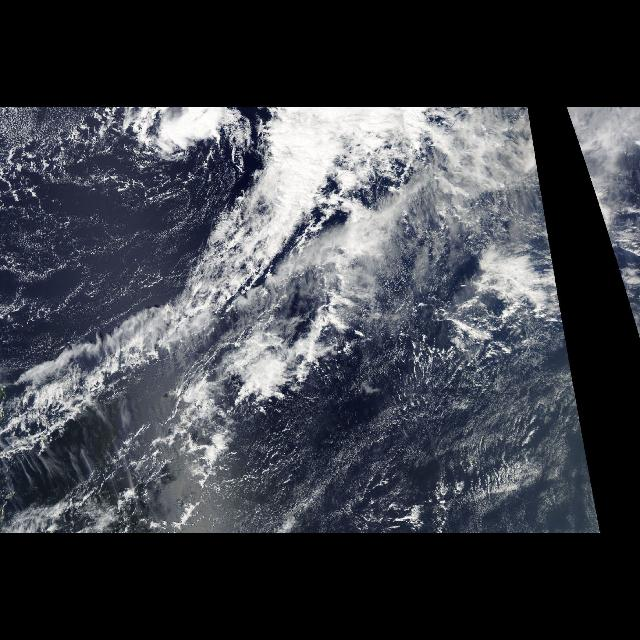Fish: (0, 142, 310, 452)
Sugar: (318, 338, 592, 484), (7, 203, 180, 301)
